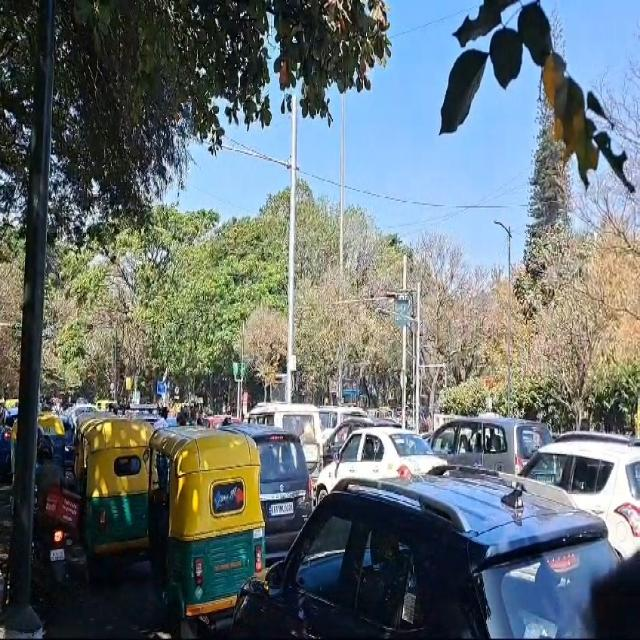cars: (235, 469, 637, 640), (317, 427, 448, 509), (434, 418, 555, 502), (250, 432, 313, 557)
